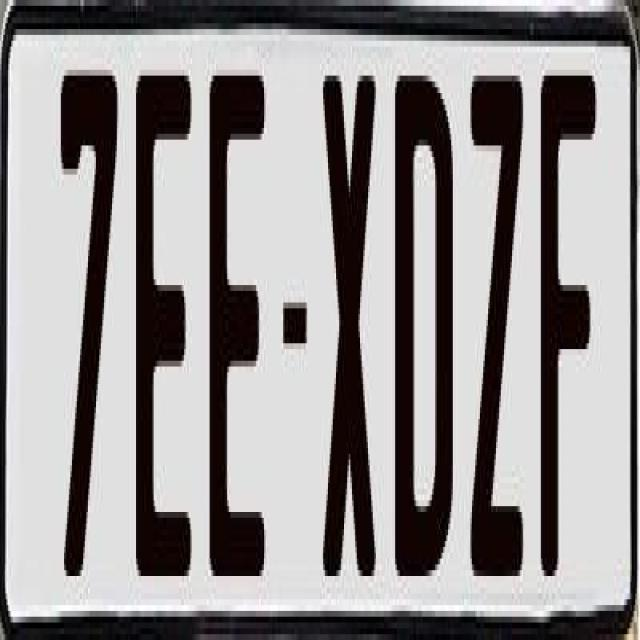7: (61, 58, 120, 570)
D: (394, 75, 454, 588)
E: (210, 58, 268, 594), (136, 70, 190, 576)
F: (536, 58, 590, 582)
X: (322, 64, 384, 576)
Z: (471, 63, 526, 564)
